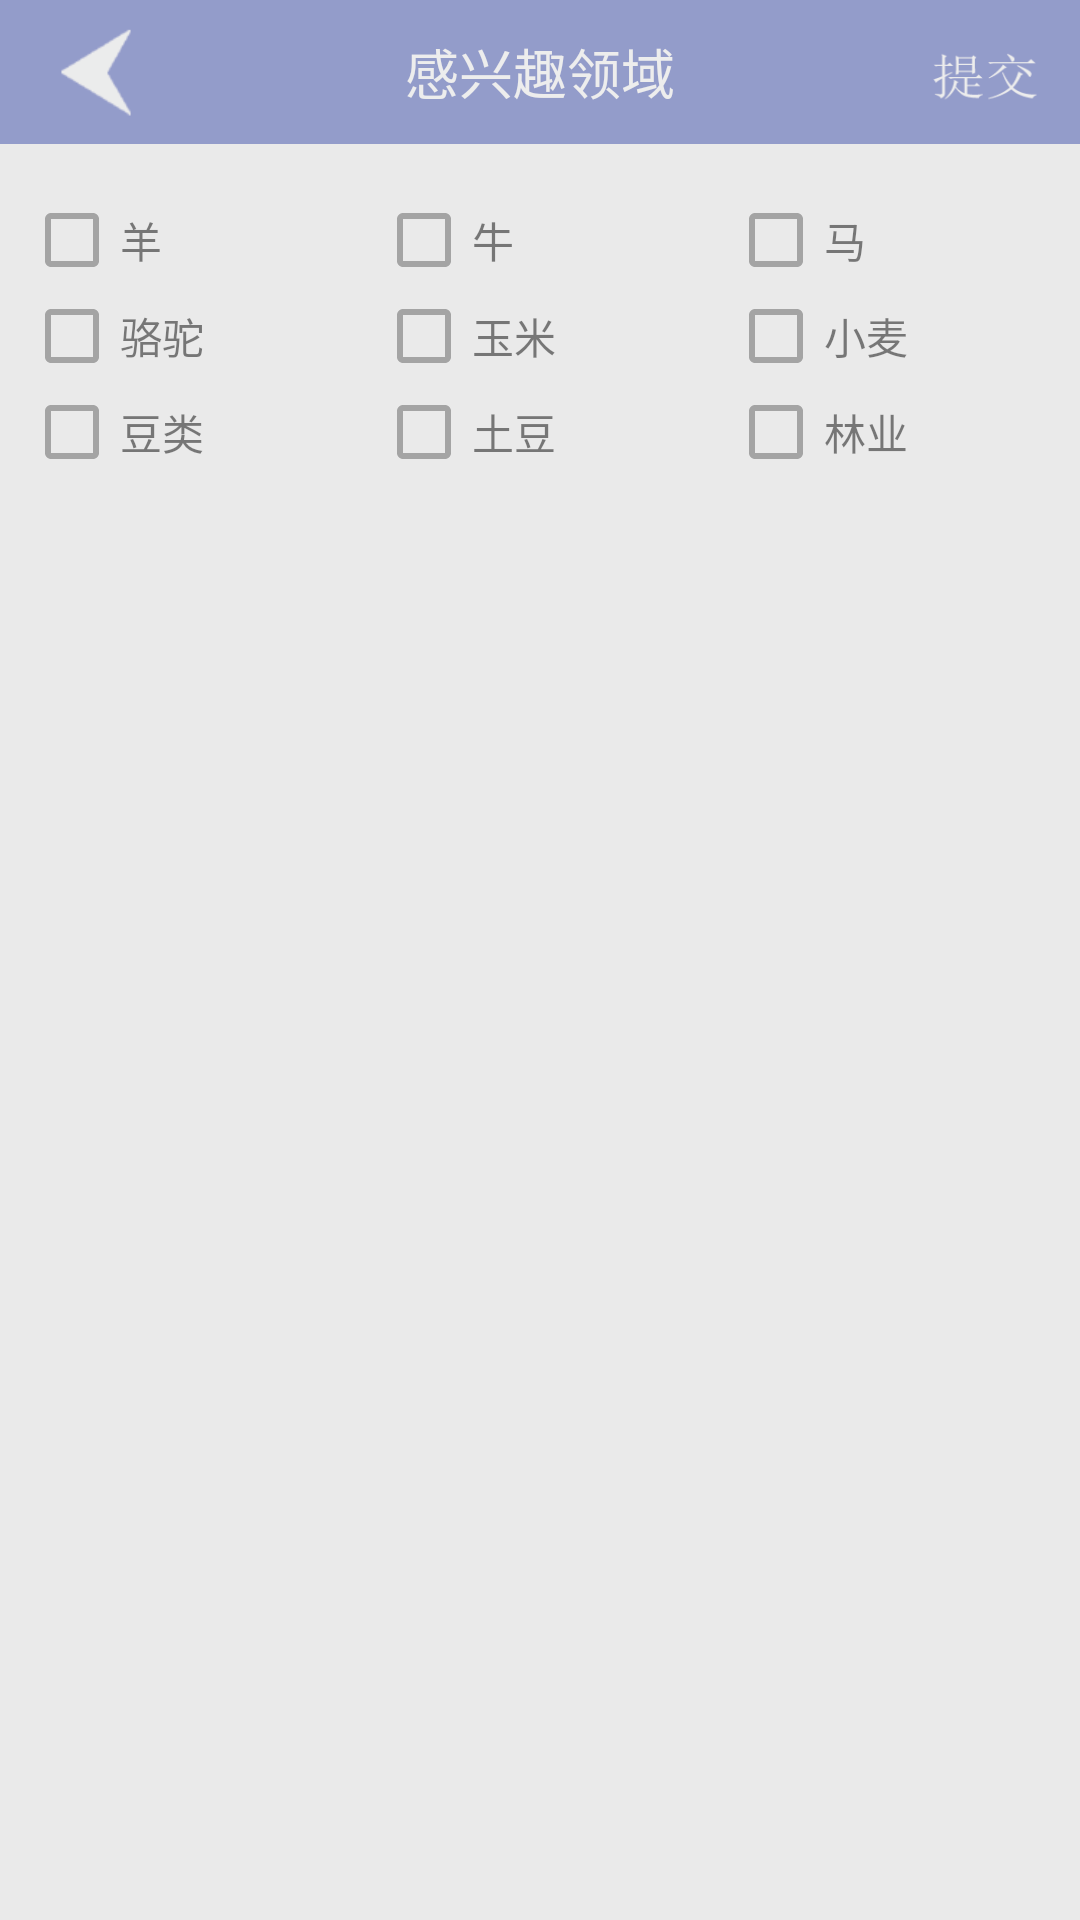

Icons on this 1080 × 1920 Android screen, each with its box as bbox(x1, y1, x2, y2):
back: bbox(61, 30, 131, 116)
